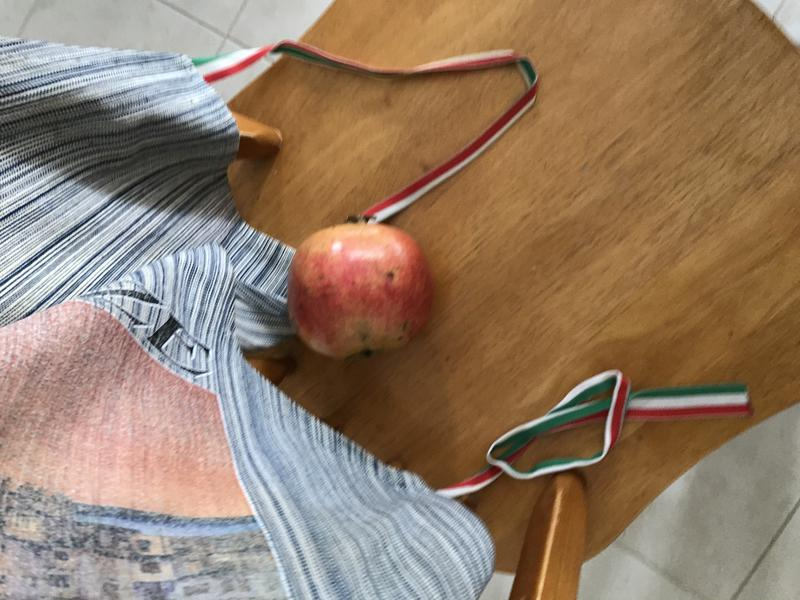pomegranate: (274, 204, 445, 369)
